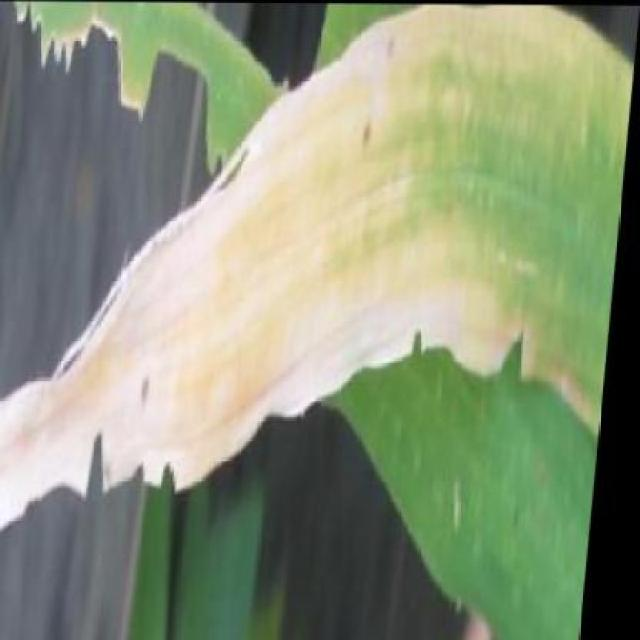Brown_Spot: (294, 41, 637, 378)
